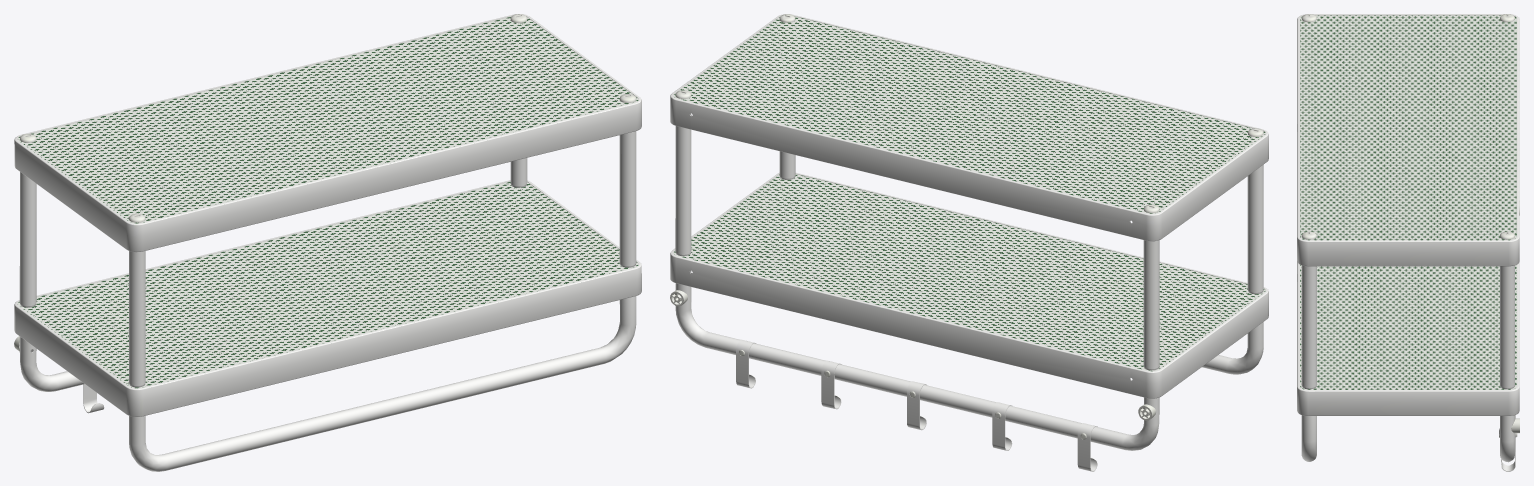
File: mackapar_wieszak_na_czapki_i_kurtki_10530990.glb
3 views of the same model, side by side, from view 1: azimuth 30°, elevation 25°; view 2: azimuth 150°, elevation 25°; view 3: azimuth 270°, elevation 25° (orthographic). The views are drawn at different scales.
Parts seen in each view (by area): view 1: mackapar_wieszak_na_czapki_i_kurtki_10530990; view 2: mackapar_wieszak_na_czapki_i_kurtki_10530990; view 3: mackapar_wieszak_na_czapki_i_kurtki_10530990.
Boxes of the visible parts, <box> form: mackapar_wieszak_na_czapki_i_kurtki_10530990: <box>14,14,641,471</box>; mackapar_wieszak_na_czapki_i_kurtki_10530990: <box>670,14,1268,471</box>; mackapar_wieszak_na_czapki_i_kurtki_10530990: <box>1297,14,1519,471</box>.
Size of the model in its own units: 0.775 by 0.4203 by 0.3203.
2 materials, 2 textured.
